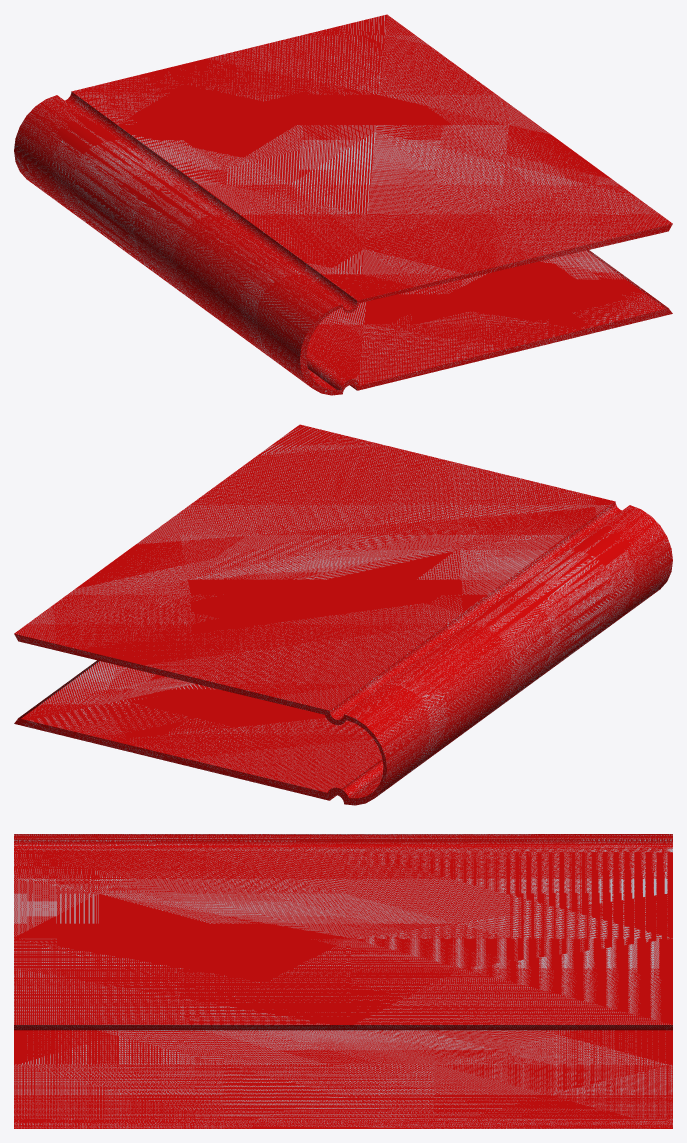
File: book1_cover.dae
The picture shows the model from 3 angles, top to bottom: view 1: azimuth 30°, elevation 25°; view 2: azimuth 150°, elevation 25°; view 3: azimuth 270°, elevation 25°; orthographic projection. The views are drawn at different scales.
Visible parts, largest first — view 1: SketchUp; view 2: SketchUp; view 3: SketchUp.
Part boxes in pixels (bbox=[...]): SketchUp: bbox=[14, 14, 672, 395]; SketchUp: bbox=[14, 424, 672, 805]; SketchUp: bbox=[14, 834, 672, 1128].
Size of the model in its own units: 0.13 by 0.1725 by 0.03.
